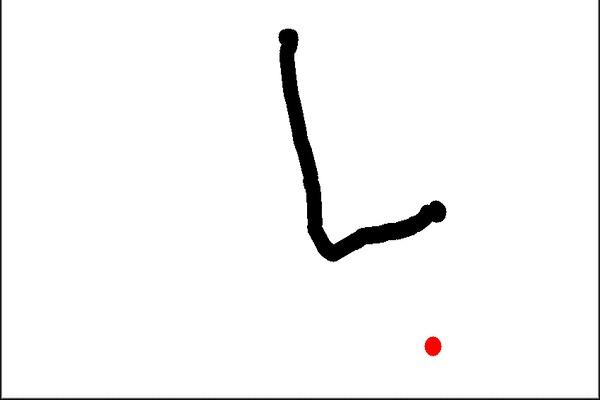L: (267, 21, 450, 262)
